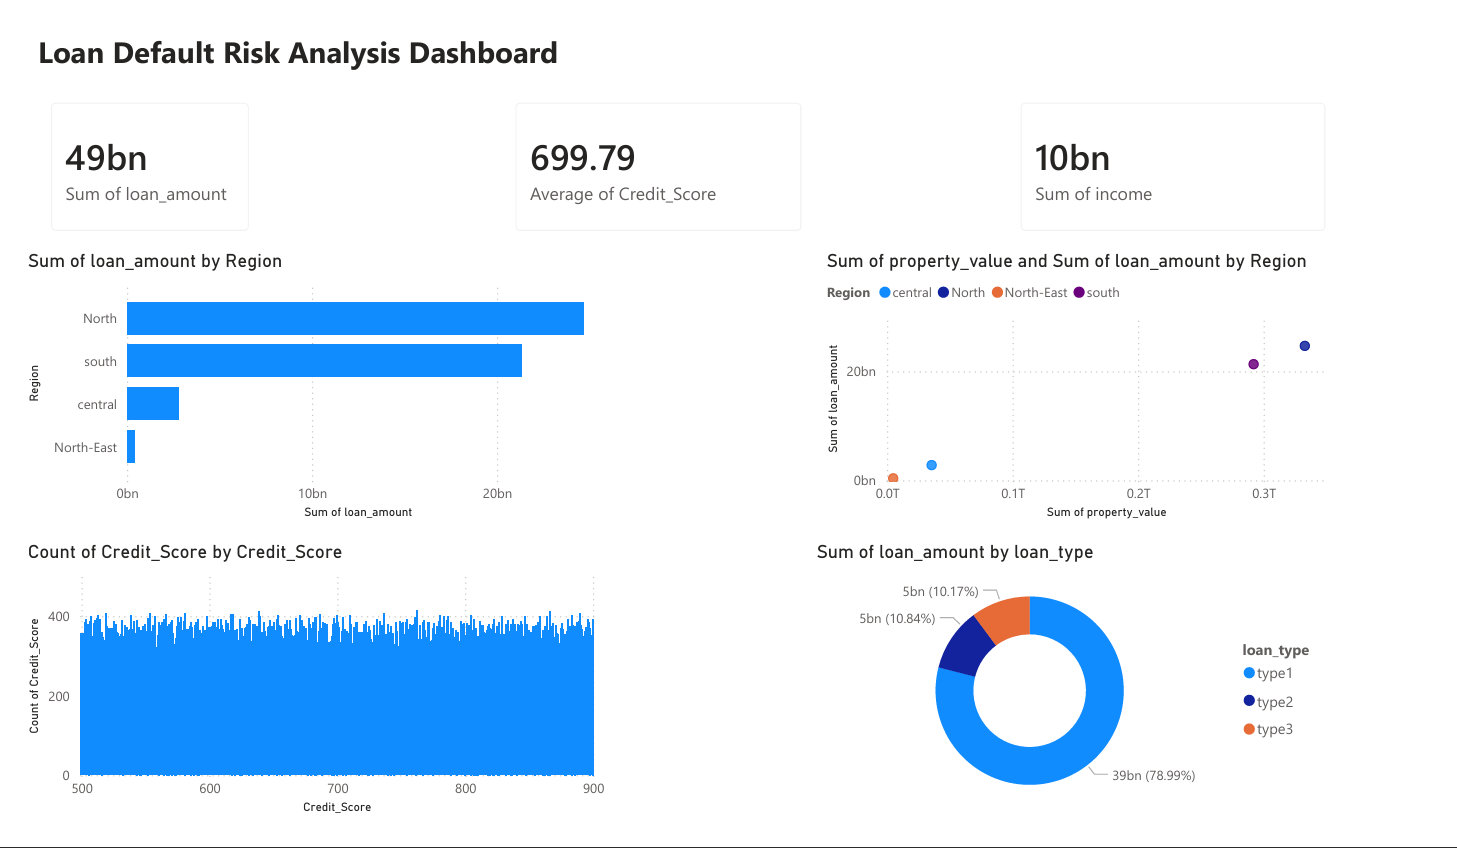

The page's visual inventory and layout, read from the dashboard file:
{"tool":"powerbi","page":{"name":"Page 1","canvas":[1280,720],"ordinal":0},"visuals":[{"type":"textbox","box":[9,0,505,52],"z":0},{"type":"barChart","fields":{"Category":["loan_dashboard_data.Region"],"Y":["Sum(loan_dashboard_data.loan_amount)"]},"box":[0,203,533.2,249.5],"z":1000},{"type":"clusteredColumnChart","fields":{"Y":["CountNonNull(loan_dashboard_data.Credit_Score)"],"Category":["loan_dashboard_data.Credit_Score"]},"box":[0,465.9,533.2,253.1],"z":3000},{"type":"scatterChart","fields":{"X":["Sum(loan_dashboard_data.property_value)"],"Y":["Sum(loan_dashboard_data.loan_amount)"],"Series":["loan_dashboard_data.Region"]},"box":[723.9,203,474.5,249.5],"z":5000},{"type":"donutChart","fields":{"Category":["loan_dashboard_data.loan_type"],"Y":["Sum(loan_dashboard_data.loan_amount)"]},"box":[715.4,465.9,474.5,254.3],"z":7000},{"type":"cardVisual","fields":{"Data":["Sum(loan_dashboard_data.loan_amount)"]},"box":[8.6,52.6,214,150.4],"z":9000},{"type":"cardVisual","fields":{"Data":["Avg(loan_dashboard_data.Credit_Score)"]},"box":[430.4,52.6,293.5,150.4],"z":10000},{"type":"cardVisual","fields":{"Data":["Sum(loan_dashboard_data.income)"]},"box":[887.8,52.6,310.6,150.4],"z":11000}]}

Visuals, with their boxes on the page's 1280x720 design canvas (x1, y1, x2, y2). These are canvas units, not pixel positions in the 1457x848 screenshot, which may show the page scaled, cropped or inside an application window:
textbox: box=[9, 0, 514, 52]
barChart - loan_dashboard_data.Region x Sum(loan_dashboard_data.loan_amount): box=[0, 203, 533, 452]
clusteredColumnChart - CountNonNull(loan_dashboard_data.Credit_Score) x loan_dashboard_data.Credit_Score: box=[0, 466, 533, 719]
scatterChart - Sum(loan_dashboard_data.property_value) x Sum(loan_dashboard_data.loan_amount): box=[724, 203, 1198, 452]
donutChart - loan_dashboard_data.loan_type x Sum(loan_dashboard_data.loan_amount): box=[715, 466, 1190, 720]
cardVisual - Sum(loan_dashboard_data.loan_amount): box=[9, 53, 223, 203]
cardVisual - Avg(loan_dashboard_data.Credit_Score): box=[430, 53, 724, 203]
cardVisual - Sum(loan_dashboard_data.income): box=[888, 53, 1198, 203]
